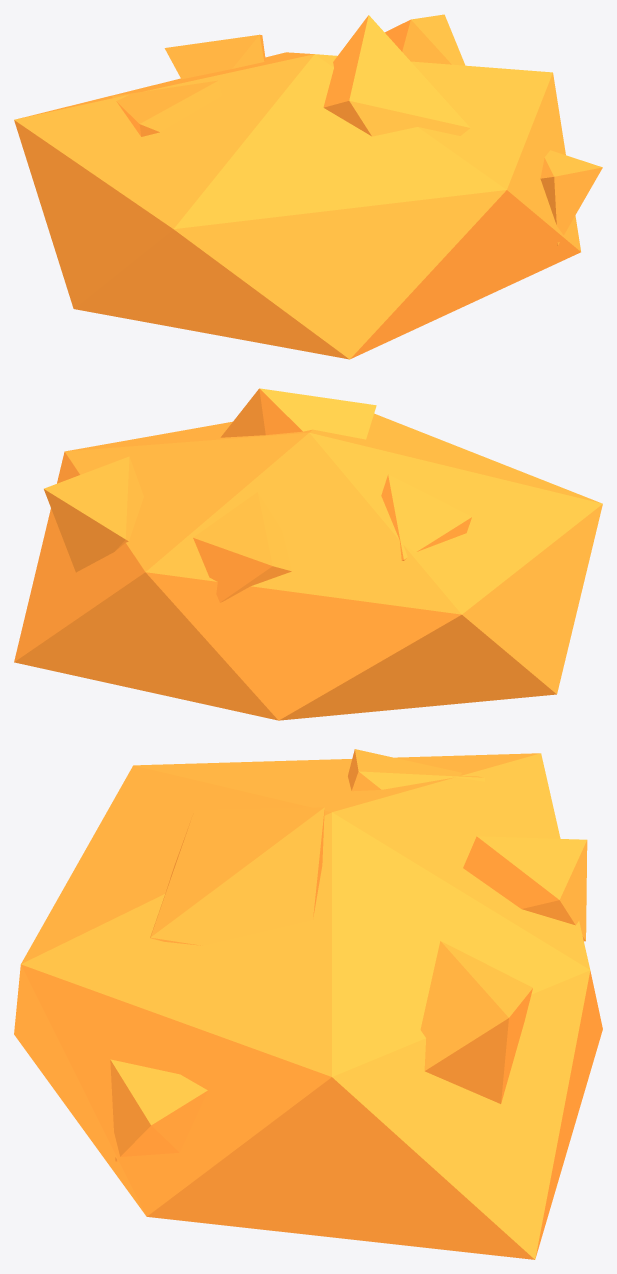
File: item_ore.glb
3 renders of one model, top to bottom at view 1: azimuth 30°, elevation 25°; view 2: azimuth 150°, elevation 25°; view 3: azimuth 270°, elevation 25°, orthographic. The views are drawn at different scales.
Parts seen in each view (by area): view 1: n0; view 2: n0; view 3: n0.
Boxes of the visible parts, bbox=[...] form: n0: bbox=[14, 14, 602, 359]; n0: bbox=[14, 388, 602, 720]; n0: bbox=[14, 749, 602, 1259].
Bounding box in the file's own units: 0.5489 × 0.2738 × 0.425.
